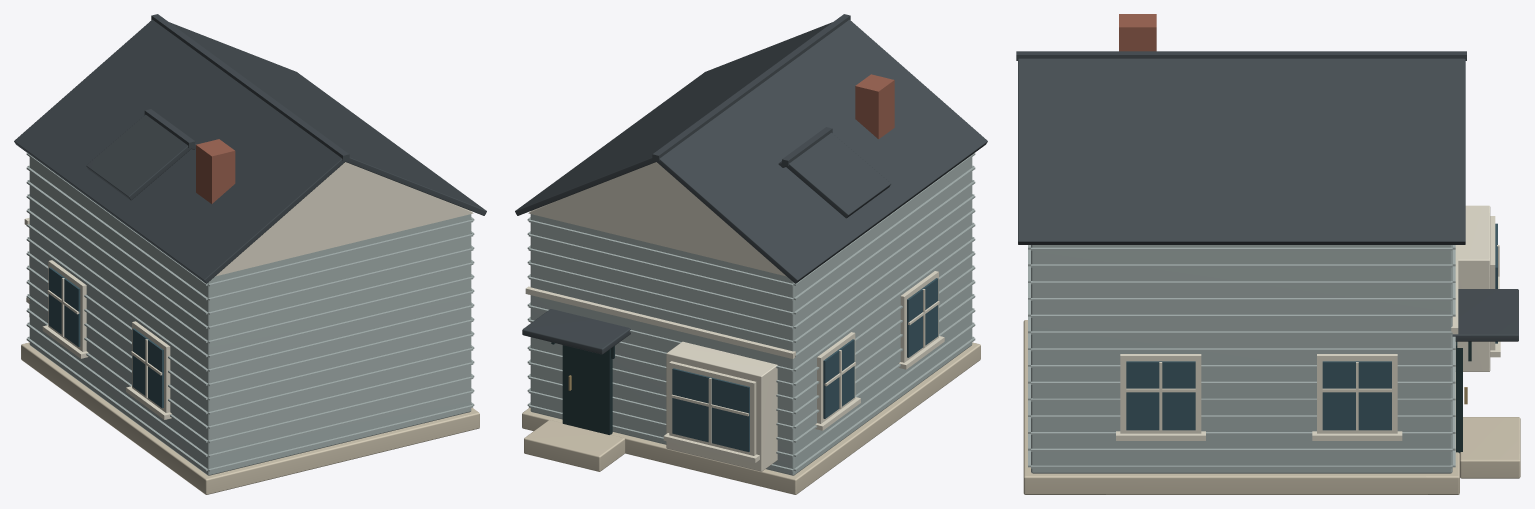
File: bayCottage.glb
3 views of the same model, side by side, from view 1: azimuth 30°, elevation 25°; view 2: azimuth 150°, elevation 25°; view 3: azimuth 270°, elevation 25° (orthographic). The views are drawn at different scales.
Parts seen in each view (by area): view 1: Painted siding, Slate roof, Ivory trim, Limestone, Window glass, Terracotta brick; view 2: Painted siding, Slate roof, Ivory trim, Limestone, Window glass, Dark metal, Terracotta brick; view 3: Slate roof, Painted siding, Limestone, Ivory trim, Window glass, Terracotta brick, Dark metal.
Part boxes in pixels (x1,y1,x2,y2): Painted siding: [26, 153, 474, 475]; Slate roof: [14, 14, 486, 283]; Ivory trim: [24, 162, 473, 419]; Limestone: [21, 342, 479, 494]; Window glass: [49, 267, 163, 408]; Terracotta brick: [196, 139, 235, 203]; Painted siding: [527, 153, 975, 475]; Slate roof: [515, 14, 987, 354]; Ivory trim: [525, 162, 944, 471]; Limestone: [522, 342, 980, 494]; Window glass: [672, 278, 938, 451]; Dark metal: [551, 342, 614, 434]; Terracotta brick: [855, 74, 894, 139]; Slate roof: [1016, 51, 1518, 341]; Painted siding: [1028, 245, 1455, 473]; Limestone: [1023, 320, 1520, 494]; Ivory trim: [1116, 205, 1500, 440]; Window glass: [1126, 223, 1497, 430]; Terracotta brick: [1119, 14, 1156, 51]; Dark metal: [1456, 341, 1471, 453].
Bounding box in the file's own units: 6.65 × 6.95 × 8.73.
